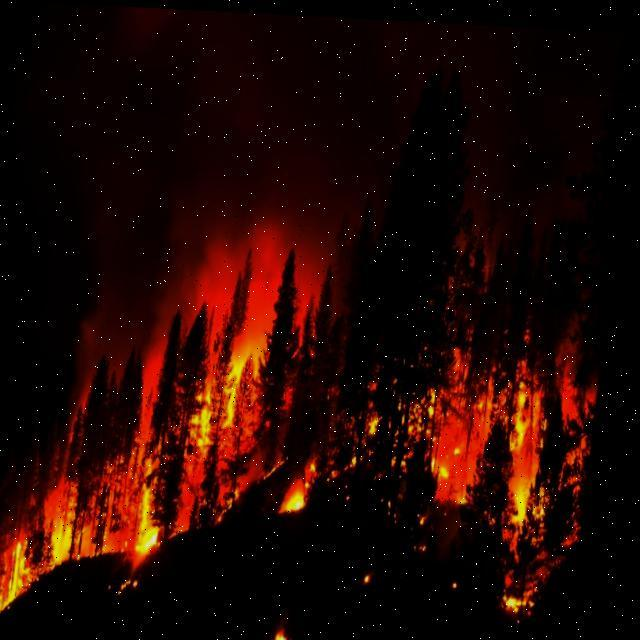Fire: (410, 322, 611, 603), (174, 292, 342, 518), (0, 420, 179, 630)
